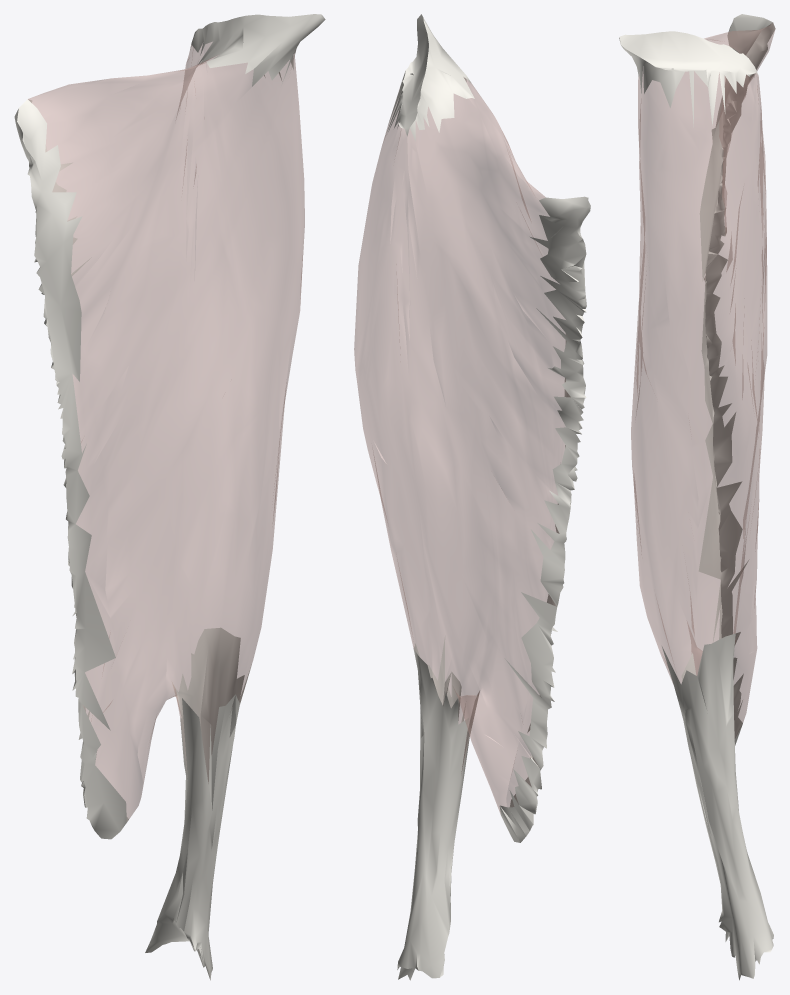
The model's file is grand-adducteur.glb.
3 renders of one model, left to right at view 1: azimuth 30°, elevation 25°; view 2: azimuth 150°, elevation 25°; view 3: azimuth 270°, elevation 25°, orthographic. The views are drawn at different scales.
Visible parts, largest first — view 1: grand-adducteur; view 2: grand-adducteur; view 3: grand-adducteur.
Boxes of the visible parts, <box> form: grand-adducteur: <box>14,14,325,980</box>; grand-adducteur: <box>354,14,590,980</box>; grand-adducteur: <box>619,14,775,980</box>.
Size of the model in its own units: 0.0975 by 0.3575 by 0.0523.
